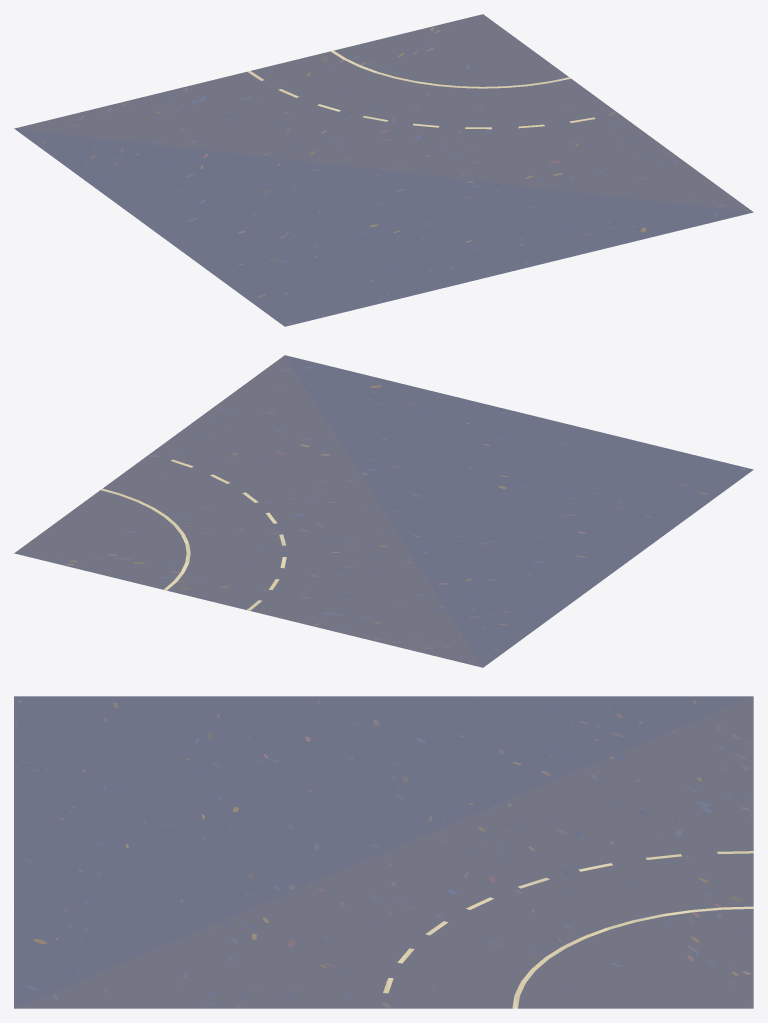
The model's file is HK_RoadSurf_TurnOpen.glb.
The picture shows the model from 3 angles, top to bottom: view 1: azimuth 30°, elevation 25°; view 2: azimuth 150°, elevation 25°; view 3: azimuth 270°, elevation 25°; orthographic projection. The views are drawn at different scales.
Parts seen in each view (by area): view 1: HK_RoadSurf_TurnOpen; view 2: HK_RoadSurf_TurnOpen; view 3: HK_RoadSurf_TurnOpen.
Part boxes in pixels (<box>): HK_RoadSurf_TurnOpen: <box>14,14,753,326</box>; HK_RoadSurf_TurnOpen: <box>14,355,753,667</box>; HK_RoadSurf_TurnOpen: <box>14,696,753,1008</box>.
Size of the model in its own units: 20 by 0.0126 by 20.
